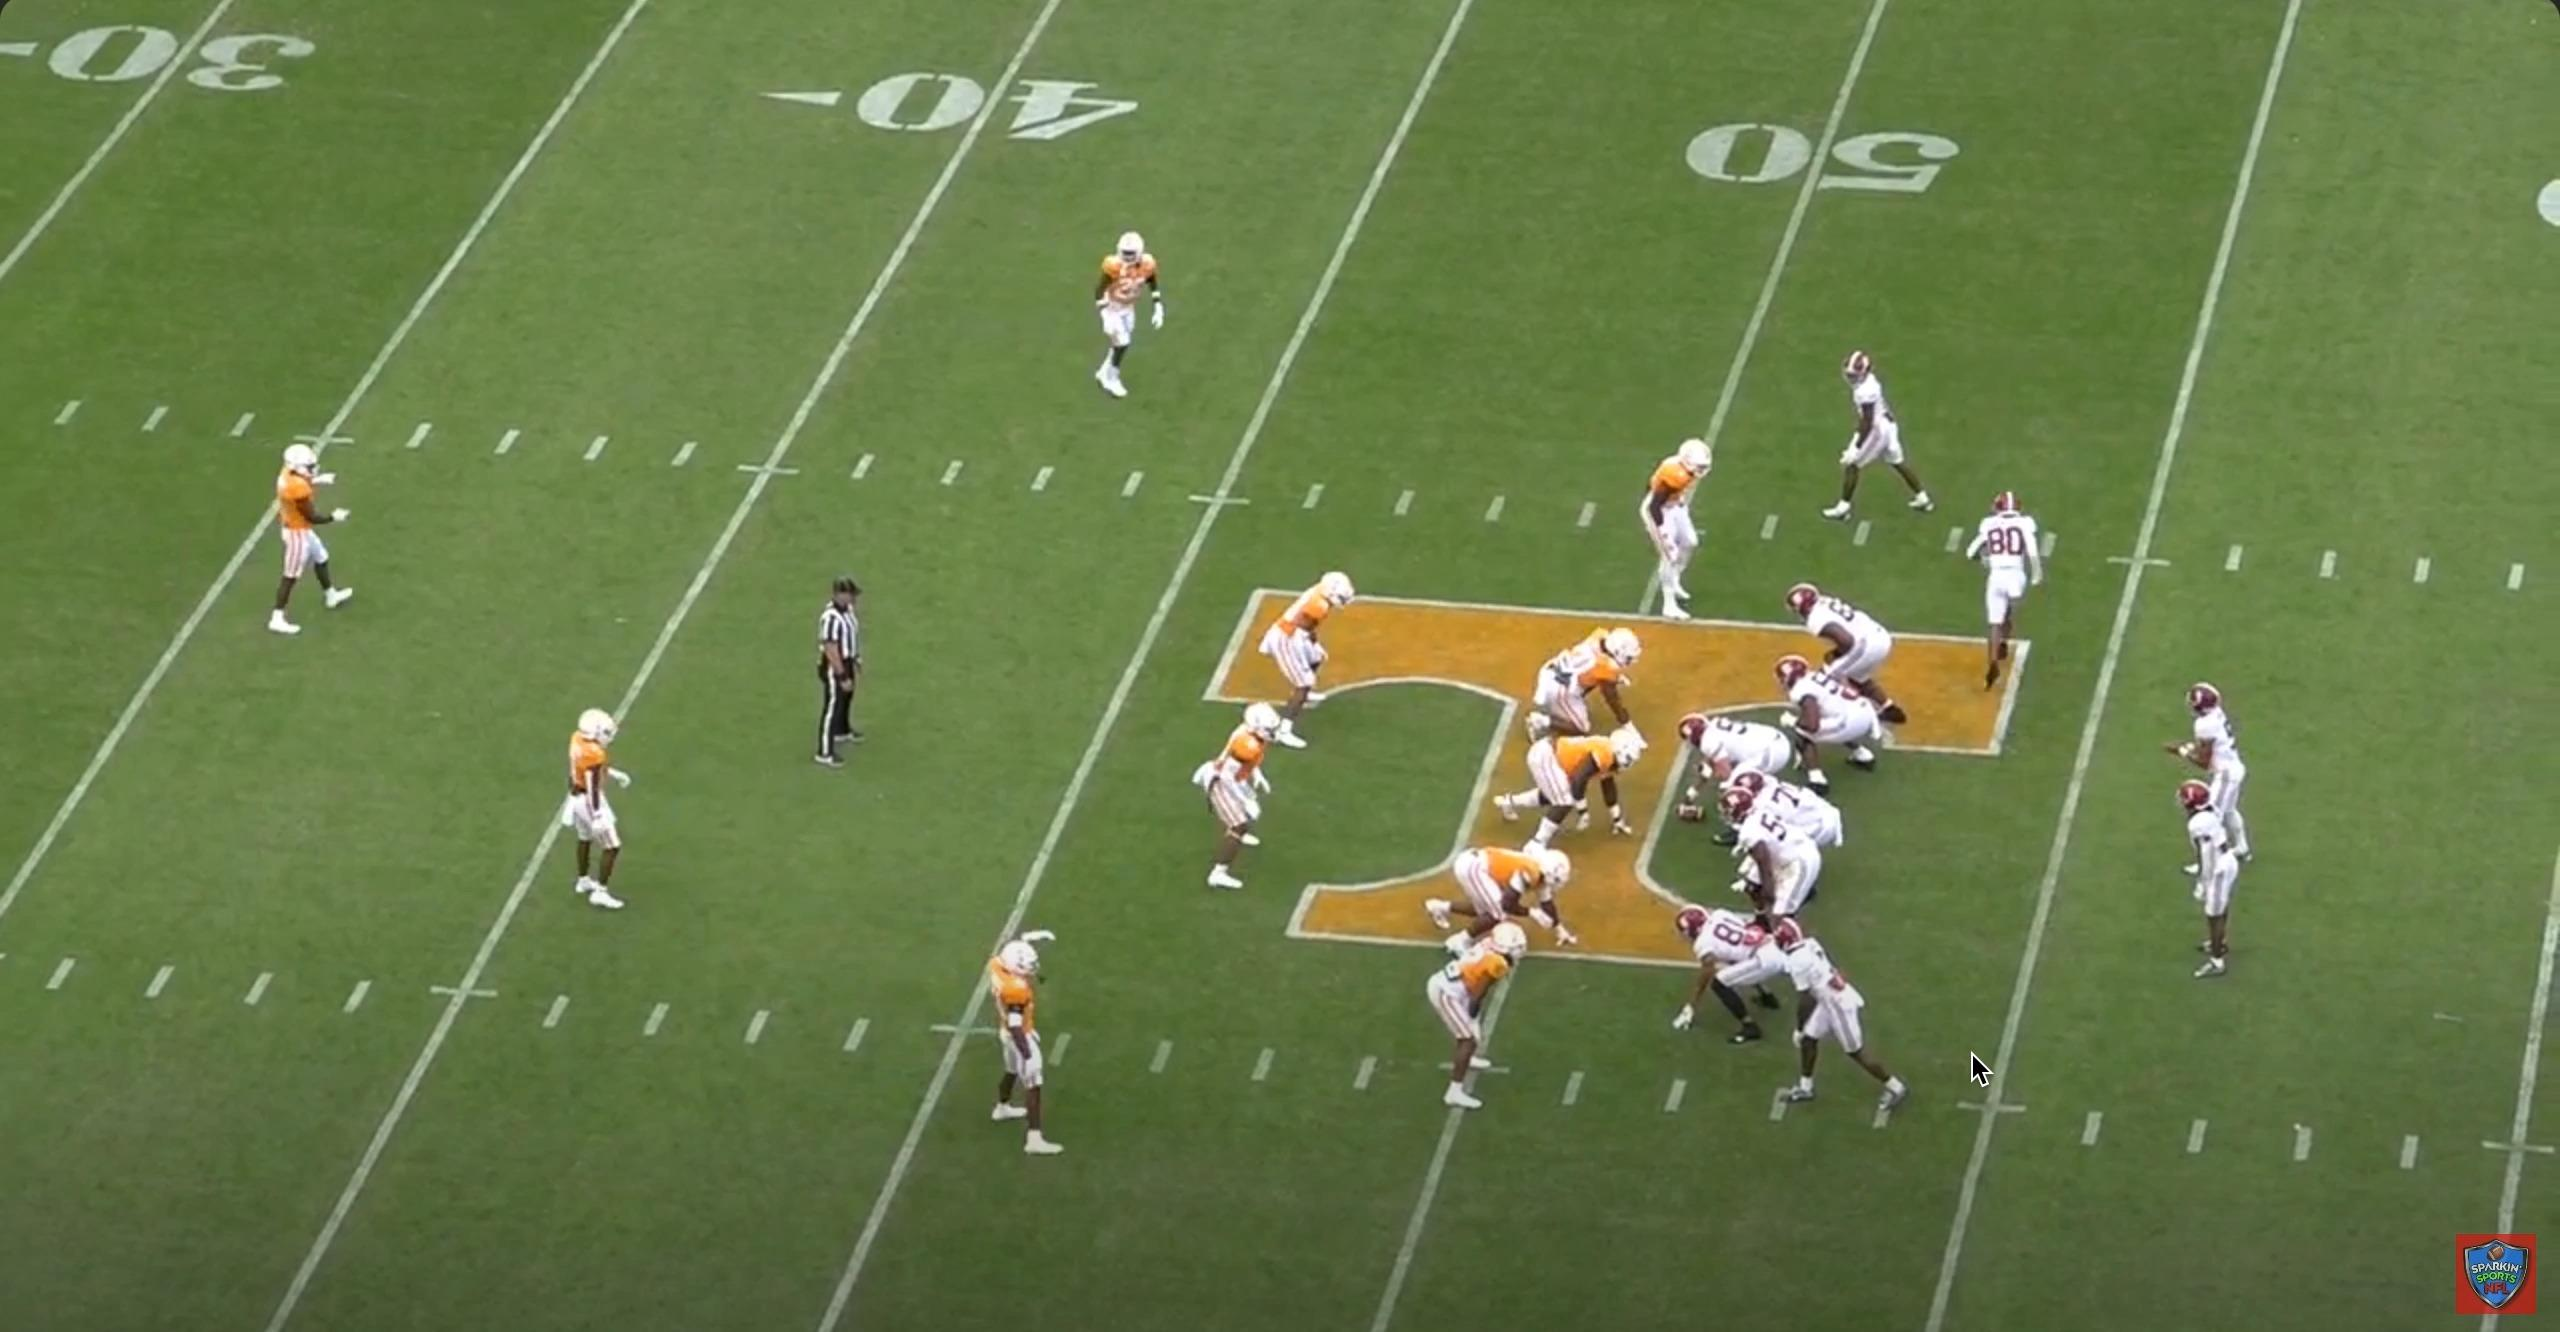player: (1759, 919, 1917, 1125), (1421, 917, 1532, 1117), (1815, 350, 1937, 530), (258, 429, 358, 638), (1783, 582, 1909, 738), (1192, 698, 1288, 900), (1496, 727, 1655, 848), (1670, 908, 1799, 1055), (975, 929, 1057, 1160), (1259, 571, 1357, 761), (1963, 487, 2051, 693), (547, 697, 630, 913), (2167, 679, 2257, 874), (1430, 838, 1585, 950), (1711, 791, 1823, 943), (2170, 782, 2252, 989), (1773, 655, 1890, 793), (1674, 717, 1806, 833), (1639, 435, 1720, 624), (1516, 624, 1642, 744), (1087, 226, 1167, 406), (1726, 763, 1849, 866)
ref: (800, 578, 874, 783)
